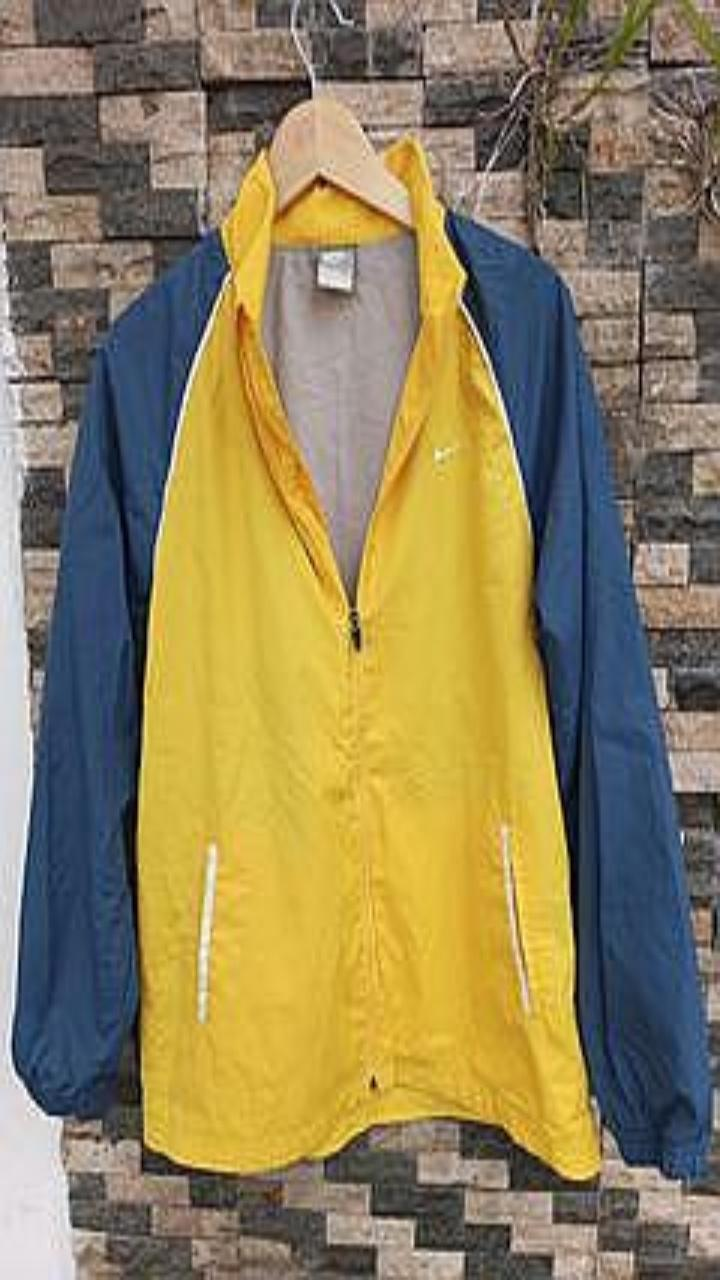Sports_Jacket: (12, 133, 711, 1178)
